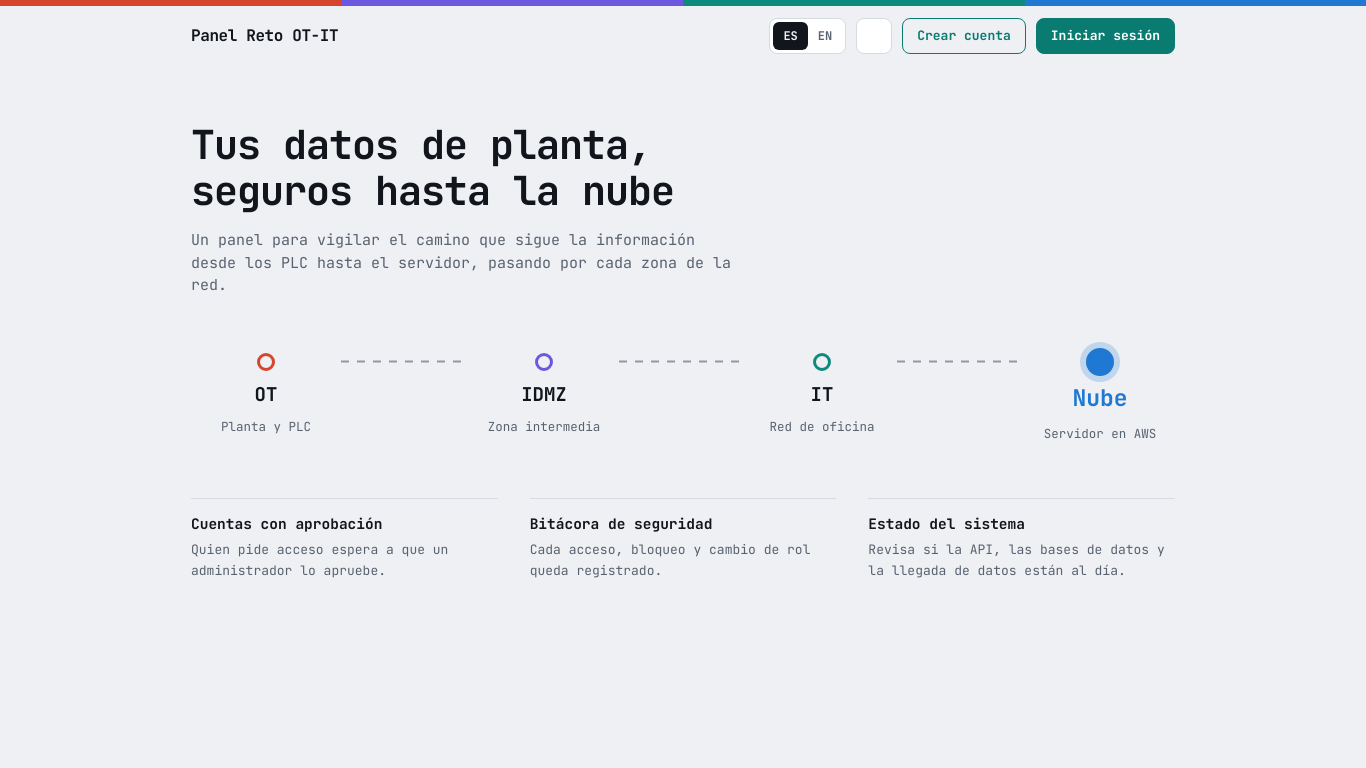
Test: PaginaLanding en inglés › muestra todo en inglés y conserva los botones
Click the button with aria-label "English" at (825, 36), box top-left (808, 22), bottom-right (842, 50)
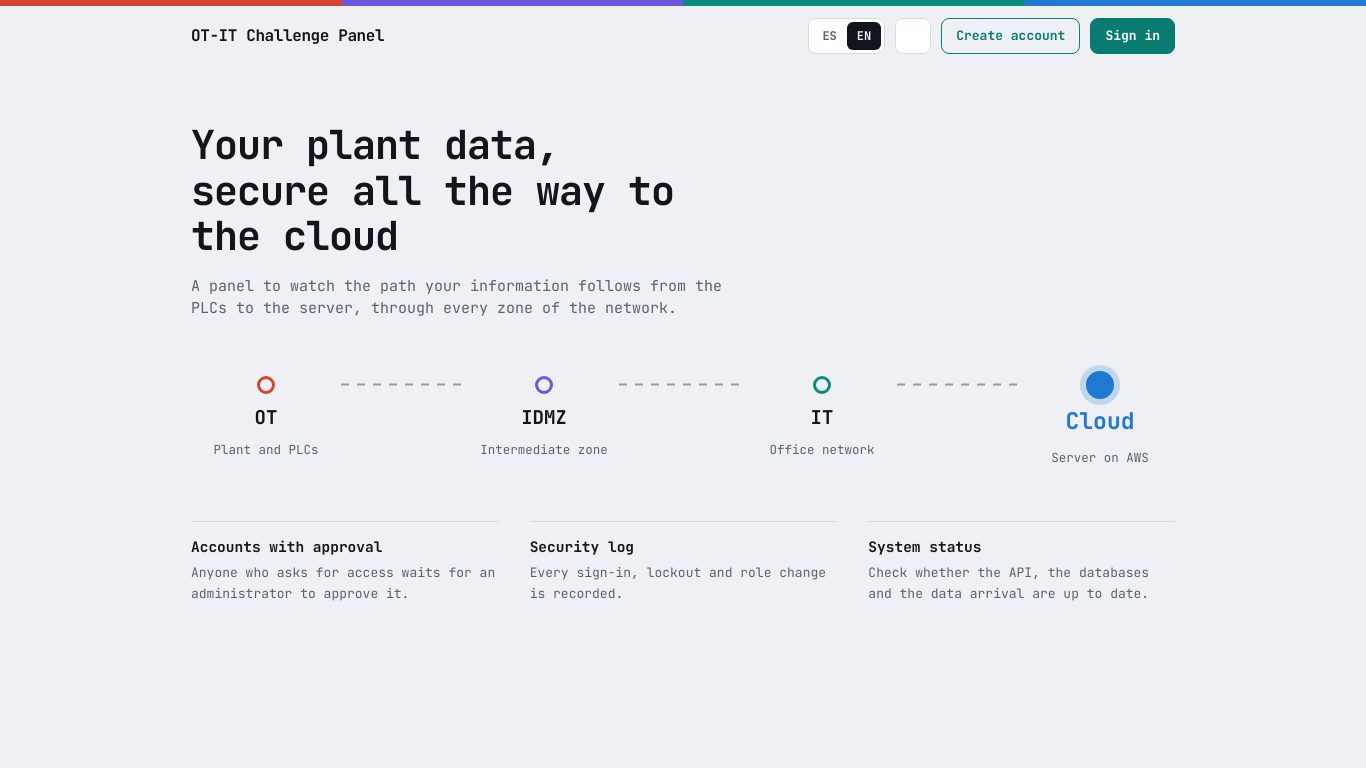
Result: the heading "Your plant data, secure all the way to the cloud" is shown at top-left (191, 122), bottom-right (719, 259)
Result: the button "Sign in" is shown at top-left (1090, 18), bottom-right (1175, 54)
Result: the button "Create account" is shown at top-left (941, 18), bottom-right (1080, 54)
